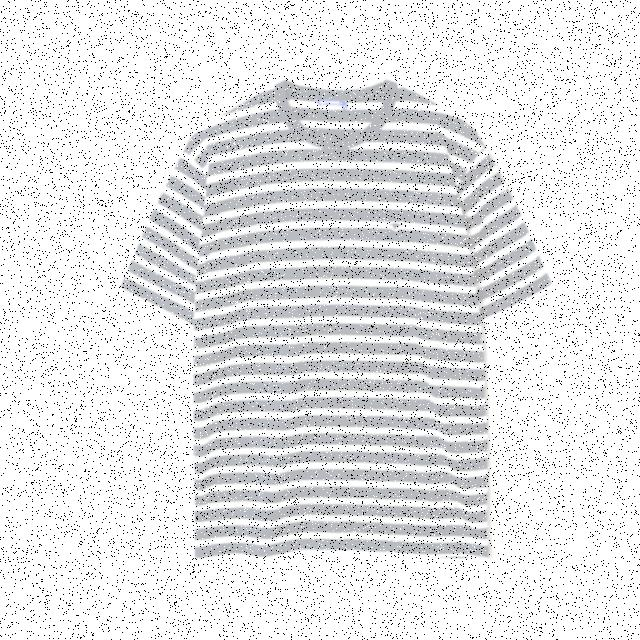dress: (122, 82, 552, 554)
